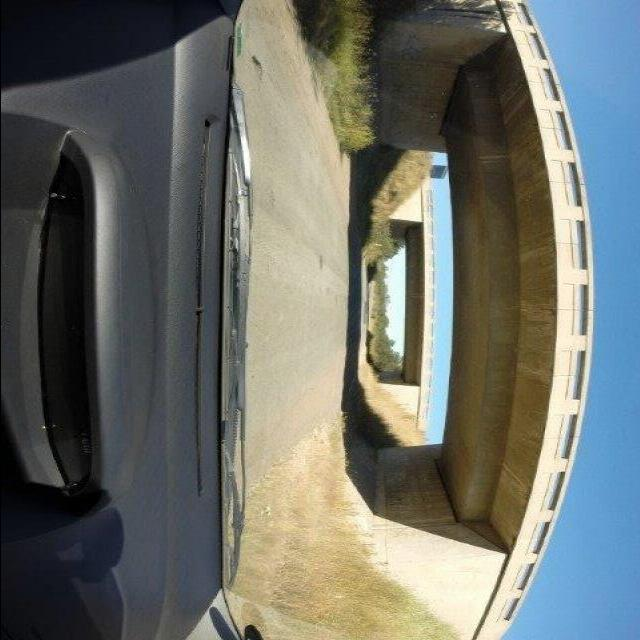lubang: (247, 53, 270, 83)
